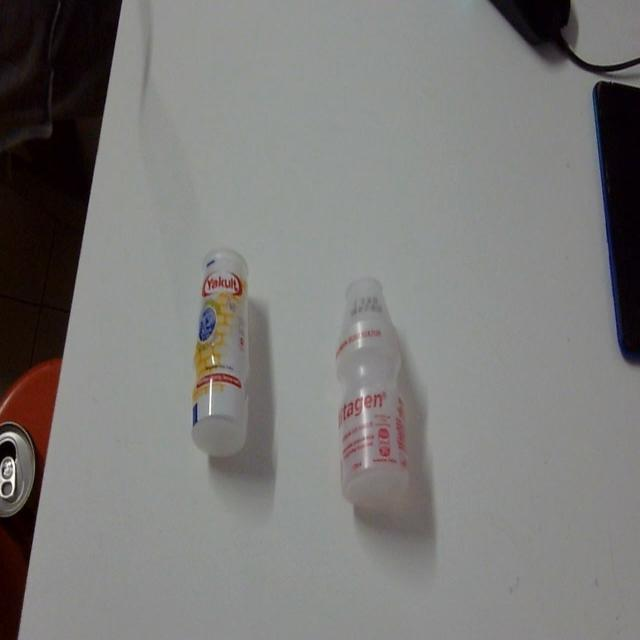plastic_laydown_90rotation: (328, 269, 418, 511), (188, 233, 266, 475)
